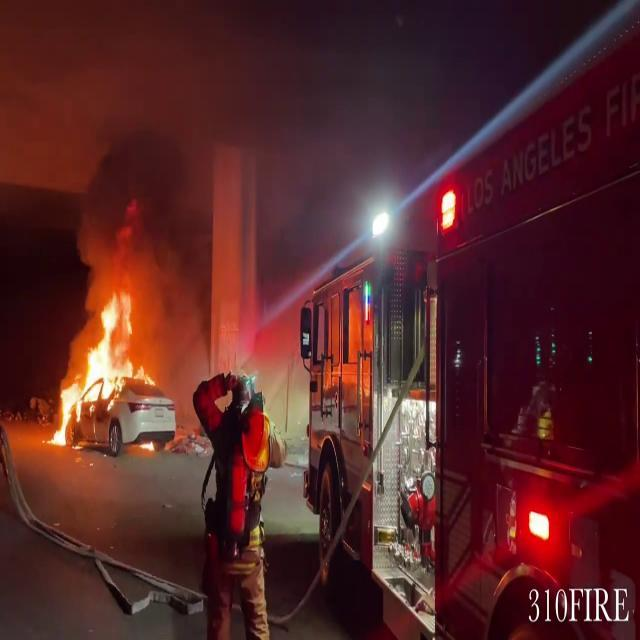Fire: (49, 278, 153, 444)
Smoke: (66, 116, 208, 352)
